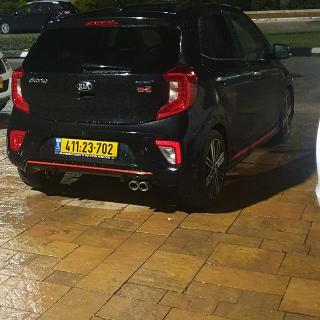LicensePlate: (61, 138, 118, 156)
